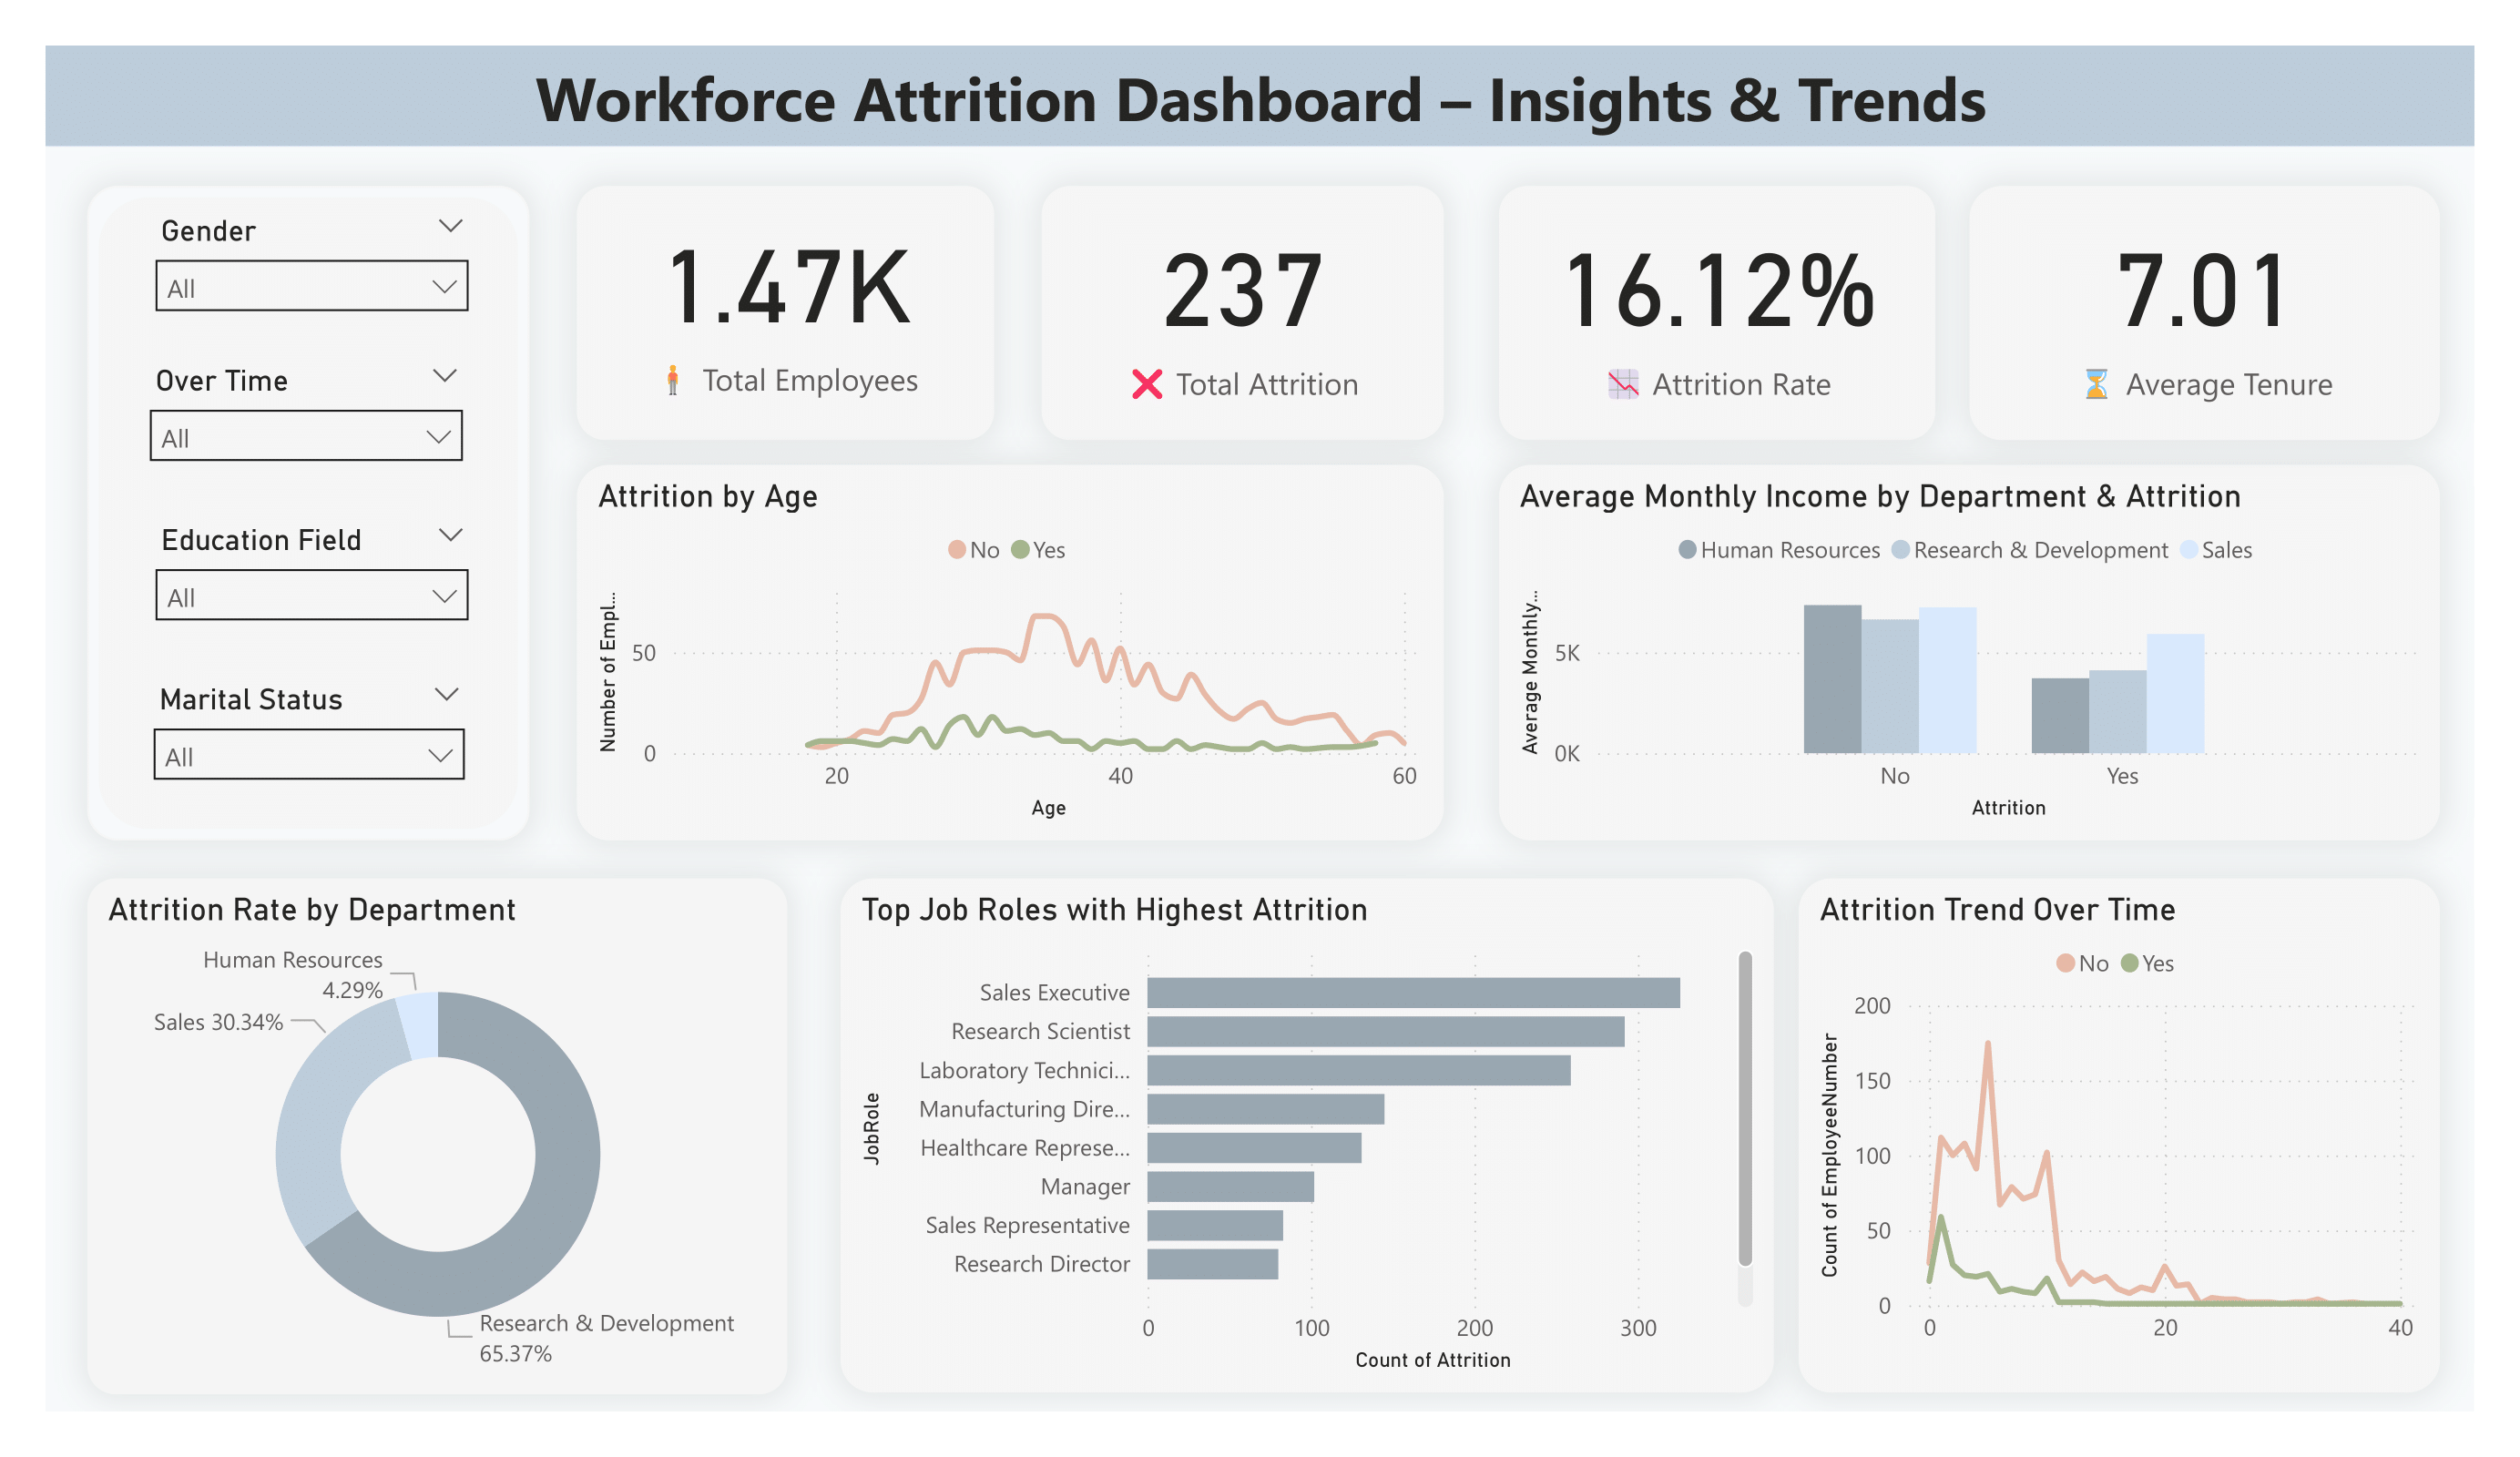

The page's visual inventory and layout, read from the dashboard file:
{"tool":"powerbi","page":{"name":"Page 1","canvas":[1280,720],"ordinal":0},"visuals":[{"type":"shape","box":[21.6,73.7,233.6,344.8],"z":0},{"type":"cardVisual","fields":{"Data":["CountNonNull(WA_Fn-UseC_-HR-Employee-Attrition.EmployeeNumber)"]},"box":[280.2,73.7,220,133.8],"z":1000},{"type":"cardVisual","fields":{"Data":["CountNonNull(WA_Fn-UseC_-HR-Employee-Attrition.Attrition)"]},"box":[525.1,73.7,212.1,133.8],"z":2000},{"type":"cardVisual","title":"📉 Attrition Rate","fields":{"Data":["WA_Fn-UseC_-HR-Employee-Attrition.Attrition Rate"]},"box":[765.6,73.7,230.2,133.8],"z":3000},{"type":"donutChart","title":"Attrition Rate by Department","fields":{"Category":["WA_Fn-UseC_-HR-Employee-Attrition.Department"],"Y":["CountNonNull(WA_Fn-UseC_-HR-Employee-Attrition.Attrition)"]},"box":[21.6,438.9,369.8,272.2],"z":4000},{"type":"barChart","title":"Top Job Roles with Highest Attrition","fields":{"Category":["WA_Fn-UseC_-HR-Employee-Attrition.JobRole"],"Y":["CountNonNull(WA_Fn-UseC_-HR-Employee-Attrition.Attrition)"]},"box":[418.5,438.9,492.3,271.1],"z":5000},{"type":"slicer","fields":{"Values":["WA_Fn-UseC_-HR-Employee-Attrition.Gender"]},"box":[47.6,82.8,184.9,79.4],"z":6000},{"type":"slicer","fields":{"Values":["WA_Fn-UseC_-HR-Employee-Attrition.MaritalStatus"]},"box":[46.5,330.1,184.9,79.4],"z":7000},{"type":"slicer","fields":{"Values":["WA_Fn-UseC_-HR-Employee-Attrition.EducationField"]},"box":[47.6,246.1,184.9,79.4],"z":8000},{"type":"slicer","fields":{"Values":["WA_Fn-UseC_-HR-Employee-Attrition.OverTime"]},"box":[45.4,162.2,184.9,78.3],"z":9000},{"type":"clusteredColumnChart","title":"Average Monthly Income by Department & Attrition","fields":{"Category":["WA_Fn-UseC_-HR-Employee-Attrition.Attrition"],"Y":["Avg(WA_Fn-UseC_-HR-Employee-Attrition.MonthlyIncome)"],"Series":["WA_Fn-UseC_-HR-Employee-Attrition.Department"]},"box":[765.6,221.2,496.8,197.4],"z":10000},{"type":"lineChart","title":"Attrition by Age","fields":{"Category":["WA_Fn-UseC_-HR-Employee-Attrition.Age"],"Y":["Count(WA_Fn-UseC_-HR-Employee-Attrition.EmployeeNumber)"],"Series":["WA_Fn-UseC_-HR-Employee-Attrition.Attrition"]},"box":[280.2,221.2,457.1,197.4],"z":11000},{"type":"shape","box":[0,0,1280.5,53.3],"z":12000},{"type":"textbox","box":[0,0,1280.5,53.3],"z":13000},{"type":"lineChart","title":"Attrition Trend Over Time","fields":{"Category":["WA_Fn-UseC_-HR-Employee-Attrition.YearsAtCompany"],"Y":["Count(WA_Fn-UseC_-HR-Employee-Attrition.EmployeeNumber)"],"Series":["WA_Fn-UseC_-HR-Employee-Attrition.Attrition"]},"box":[924.4,438.9,338,271.1],"z":14000},{"type":"cardVisual","fields":{"Data":["Avg(WA_Fn-UseC_-HR-Employee-Attrition.YearsAtCompany)"]},"box":[1014,73.7,248.4,133.8],"z":15000}]}

Visuals, with their boxes in screenshot pixels (x1, y1, x2, y2):
shape: 87,186,530,840
cardVisual - CountNonNull(WA_Fn-UseC_-HR-Employee-Attrition.EmployeeNumber): 577,186,995,439
cardVisual - CountNonNull(WA_Fn-UseC_-HR-Employee-Attrition.Attrition): 1042,186,1444,439
"📉 Attrition Rate" cardVisual: 1498,186,1935,439
"Attrition Rate by Department" donutChart: 87,878,789,1394
"Top Job Roles with Highest Attrition" barChart: 840,878,1774,1392
slicer - WA_Fn-UseC_-HR-Employee-Attrition.Gender: 136,202,486,353
slicer - WA_Fn-UseC_-HR-Employee-Attrition.MaritalStatus: 134,672,485,822
slicer - WA_Fn-UseC_-HR-Employee-Attrition.EducationField: 136,513,486,663
slicer - WA_Fn-UseC_-HR-Employee-Attrition.OverTime: 132,353,483,502
"Average Monthly Income by Department & Attrition" clusteredColumnChart: 1498,465,2441,840
"Attrition by Age" lineChart: 577,465,1444,840
shape: 46,46,2474,147
textbox: 46,46,2474,147
"Attrition Trend Over Time" lineChart: 1800,878,2441,1392
cardVisual - Avg(WA_Fn-UseC_-HR-Employee-Attrition.YearsAtCompany): 1970,186,2441,439
